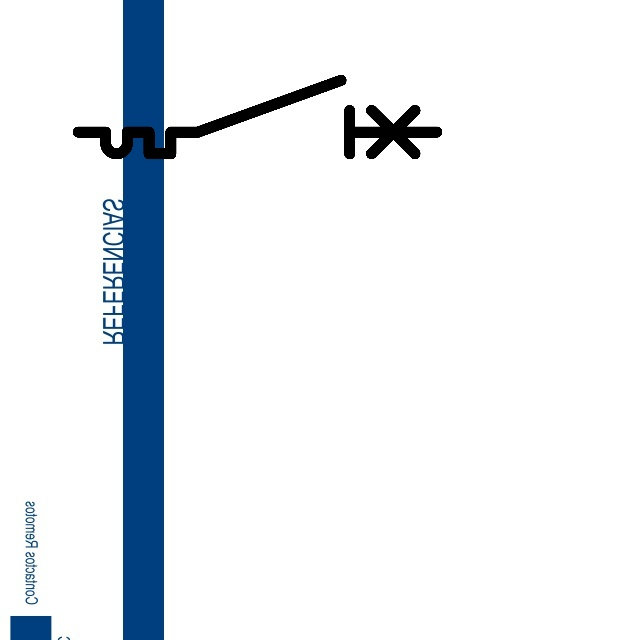interruptor_termomagnetico: (69, 71, 446, 163)
